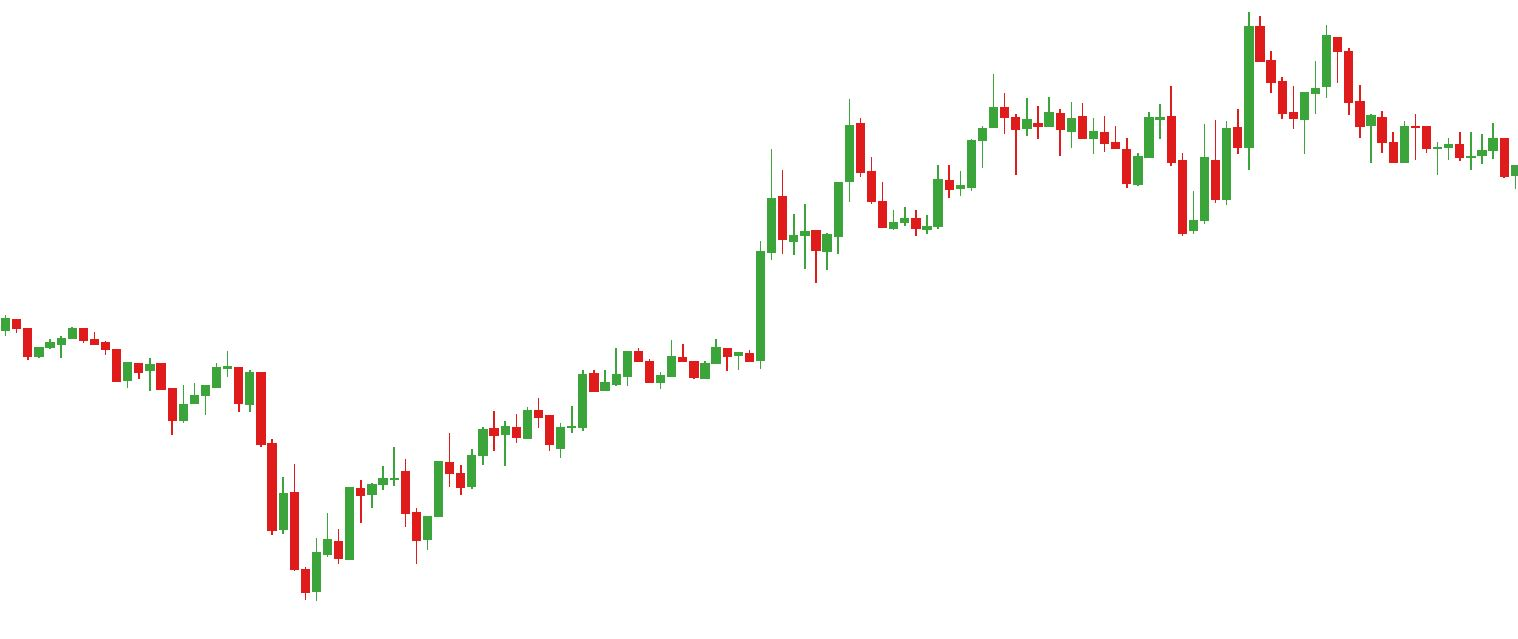buy: (1123, 129, 1210, 245)
